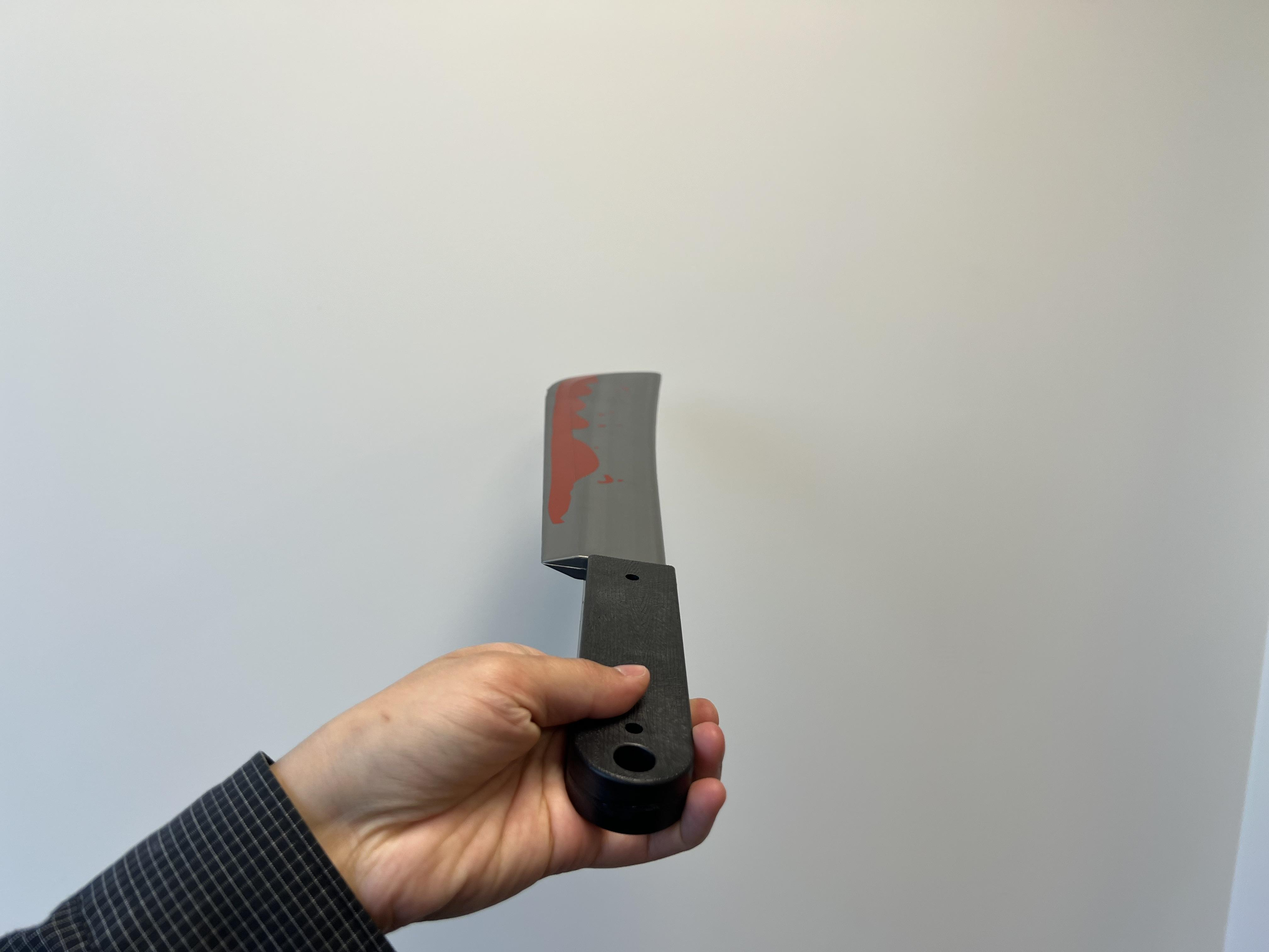Knife: (0, 641, 727, 952), (309, 644, 725, 889), (537, 369, 691, 685)
